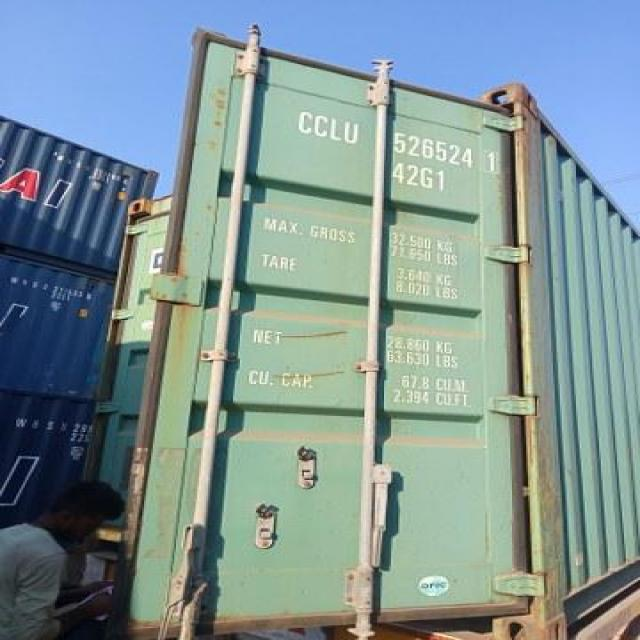ISO: (394, 163, 446, 189)
container_number: (300, 120, 498, 161)
